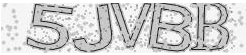5: (24, 2, 74, 51)
B: (148, 2, 192, 53), (191, 2, 230, 51)
J: (74, 3, 113, 53)
V: (111, 2, 154, 51)
